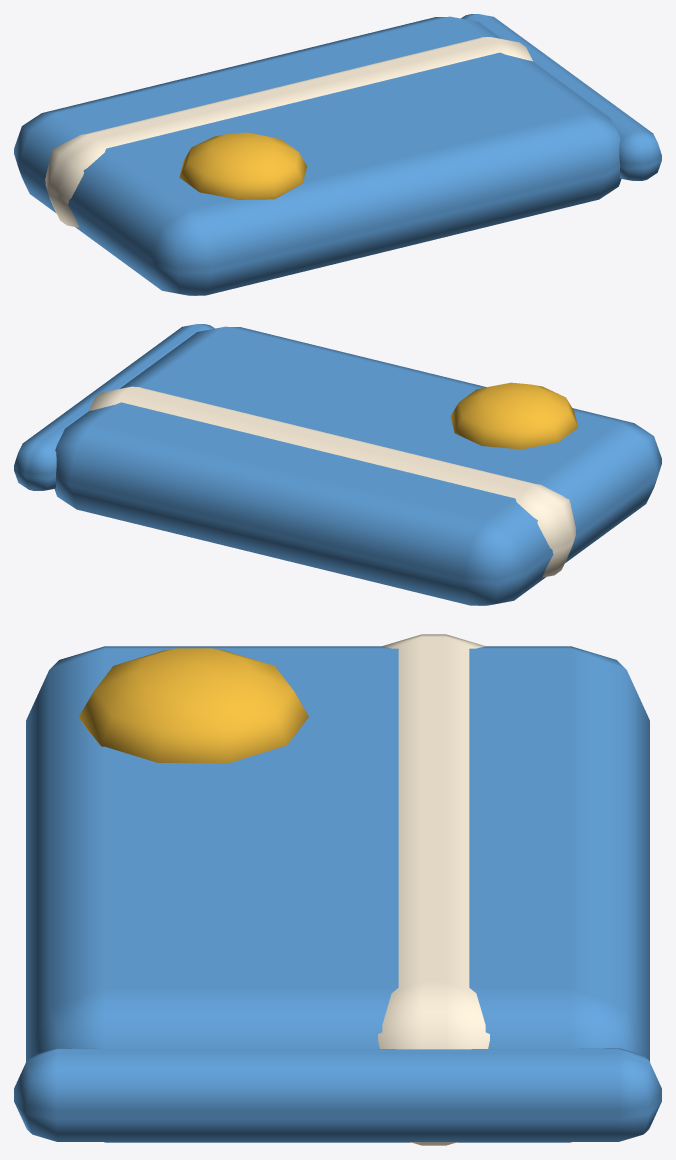
File: electrolyte_sachet.glb
3 views of the same model, one above another, from view 1: azimuth 30°, elevation 25°; view 2: azimuth 150°, elevation 25°; view 3: azimuth 270°, elevation 25° (orthographic). The views are drawn at different scales.
Parts seen in each view (by area): view 1: Sachet, Band.001, Drop, Tear; view 2: Sachet, Band.001, Drop, Tear; view 3: Sachet, Tear, Band.001, Drop.
Part boxes in pixels (x1,y1,x2,y2): Sachet: [14, 16, 621, 295]; Band.001: [45, 37, 532, 227]; Drop: [179, 132, 307, 199]; Tear: [461, 14, 661, 180]; Sachet: [54, 326, 661, 605]; Band.001: [88, 386, 576, 577]; Drop: [450, 382, 578, 449]; Tear: [14, 324, 214, 490]; Sachet: [26, 646, 649, 1142]; Tear: [14, 1048, 661, 1141]; Band.001: [378, 634, 489, 1145]; Drop: [79, 648, 308, 762].
Bounding box in the file's own units: 0.2125 × 0.047 × 0.135.
